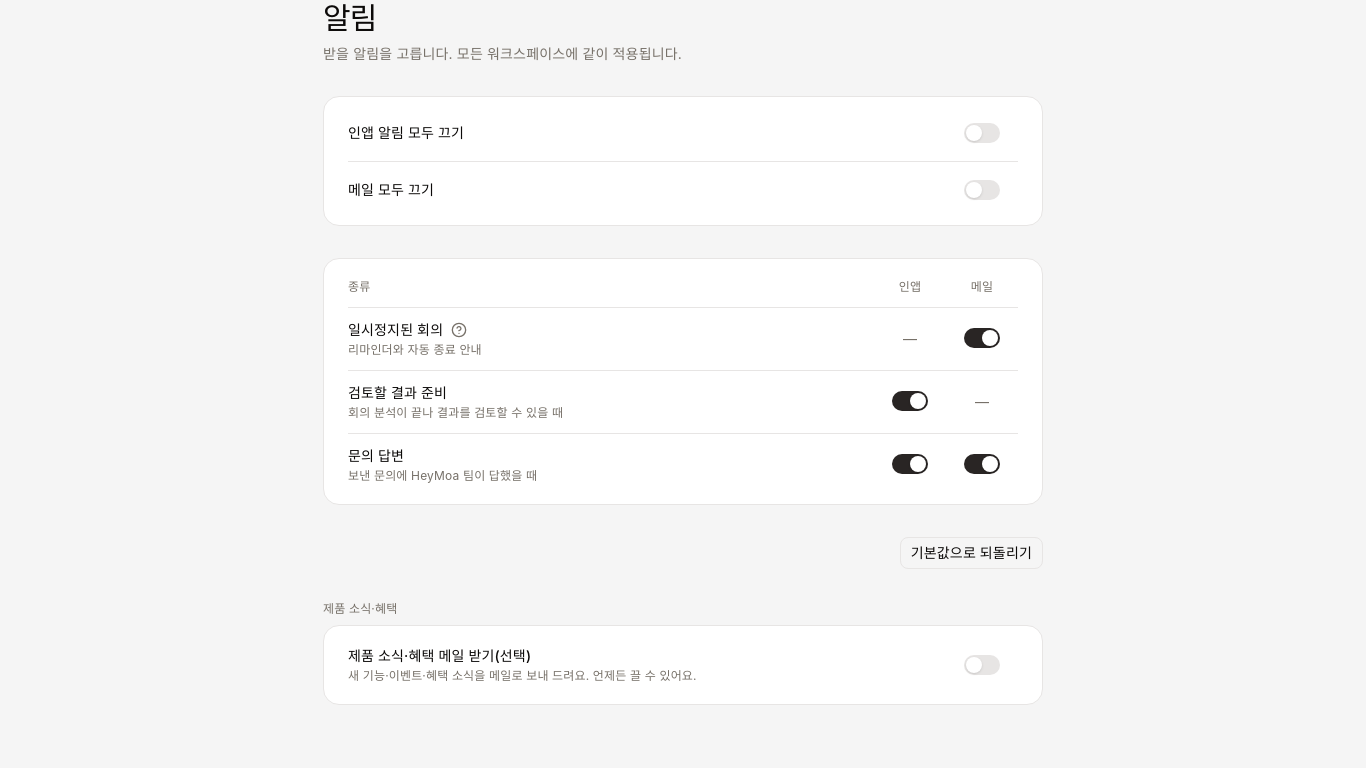
it: NotificationSettings › 인앱 알림 모두 끄기 는 확인 창에서 취소하면 아무것도 바꾸지 않는다
The image size is (1366, 768).
Click the switch named "인앱 알림 모두 끄기" at (982, 133), box [964, 123, 1000, 143]
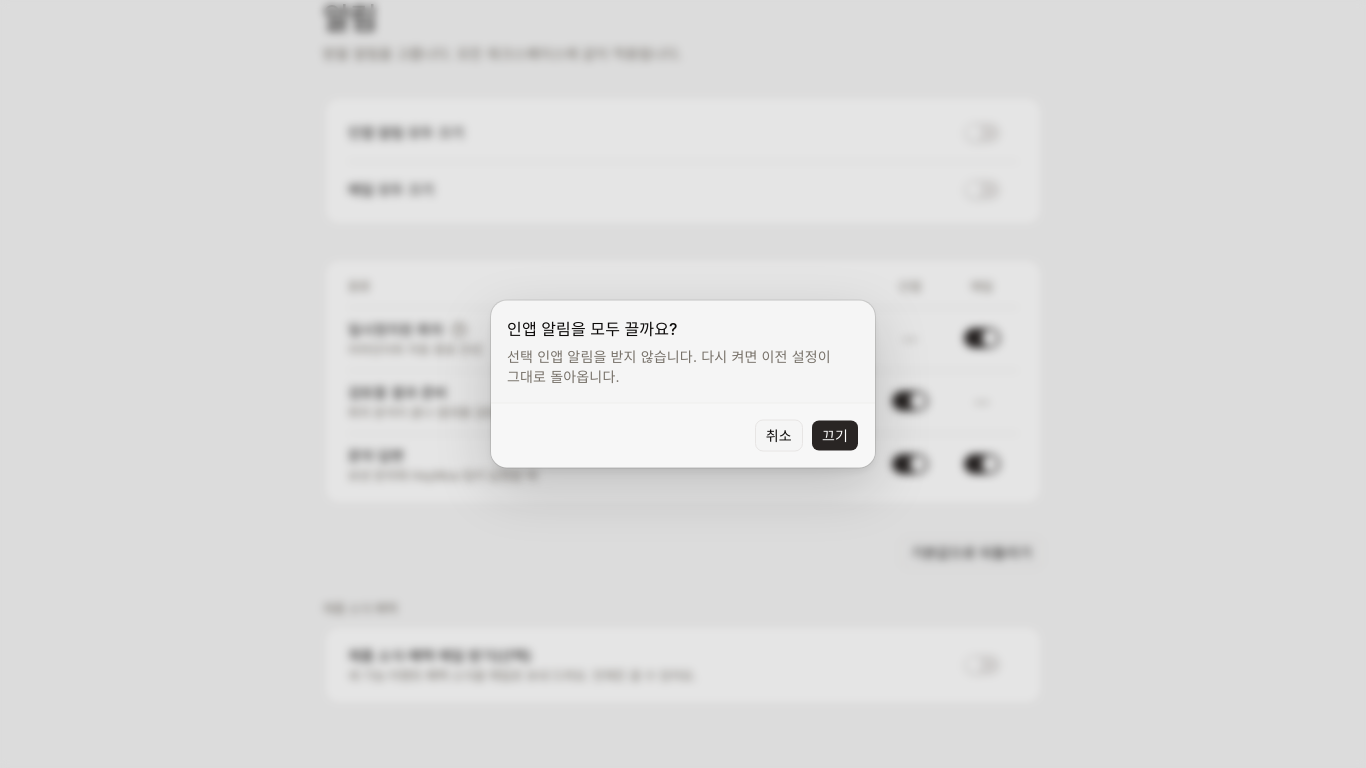
Check: the text "선택 인앱 알림을 받지 않습니다. 다시 켜면 이전 설정이 그대로 돌아옵니다." is shown, box [507, 346, 859, 386]
Click the button "취소" at (779, 436), box [755, 420, 803, 452]
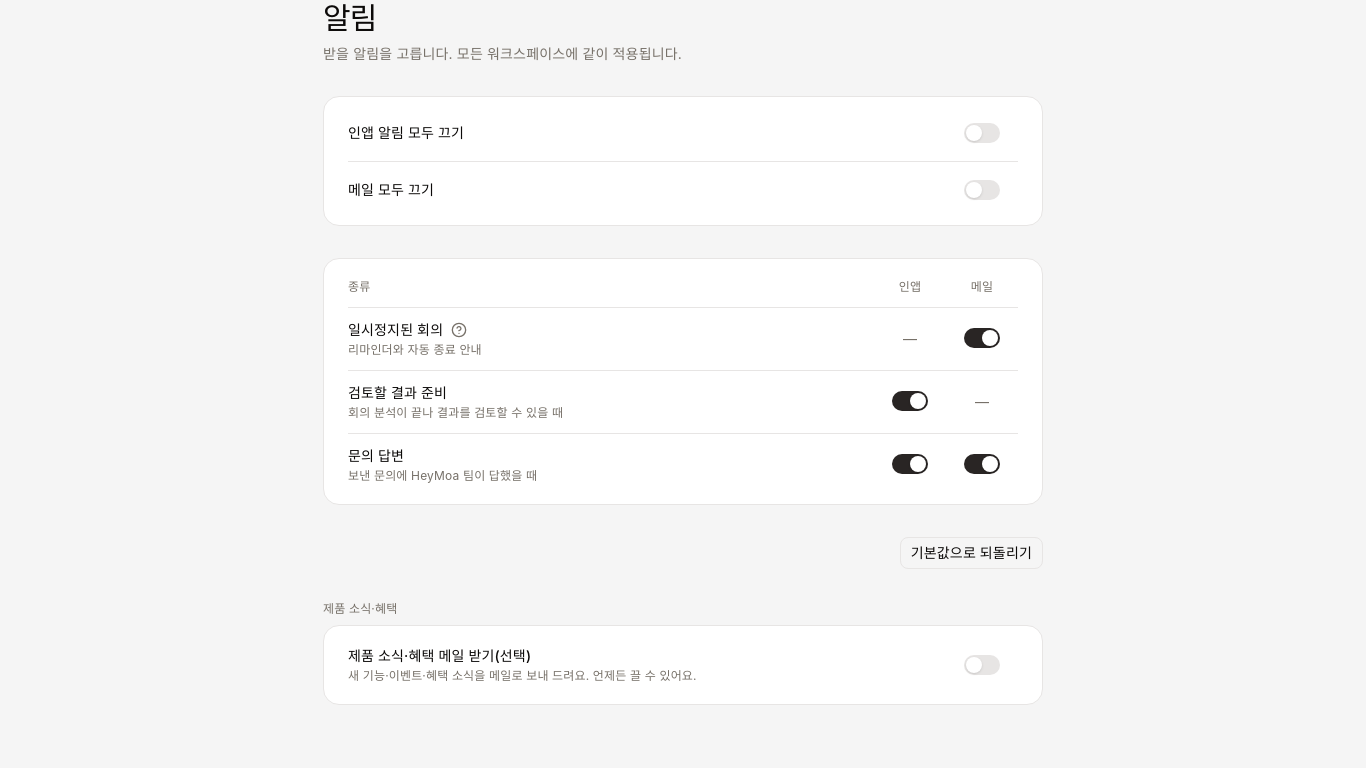
Check: the switch named "인앱 알림 모두 끄기" is not checked, box [964, 123, 1000, 143]
Check: the dialog is gone
